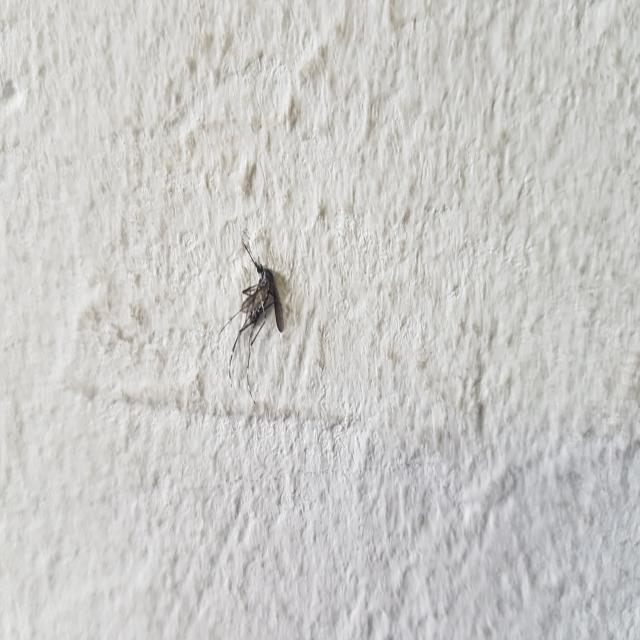albopictus: (218, 220, 288, 407)
